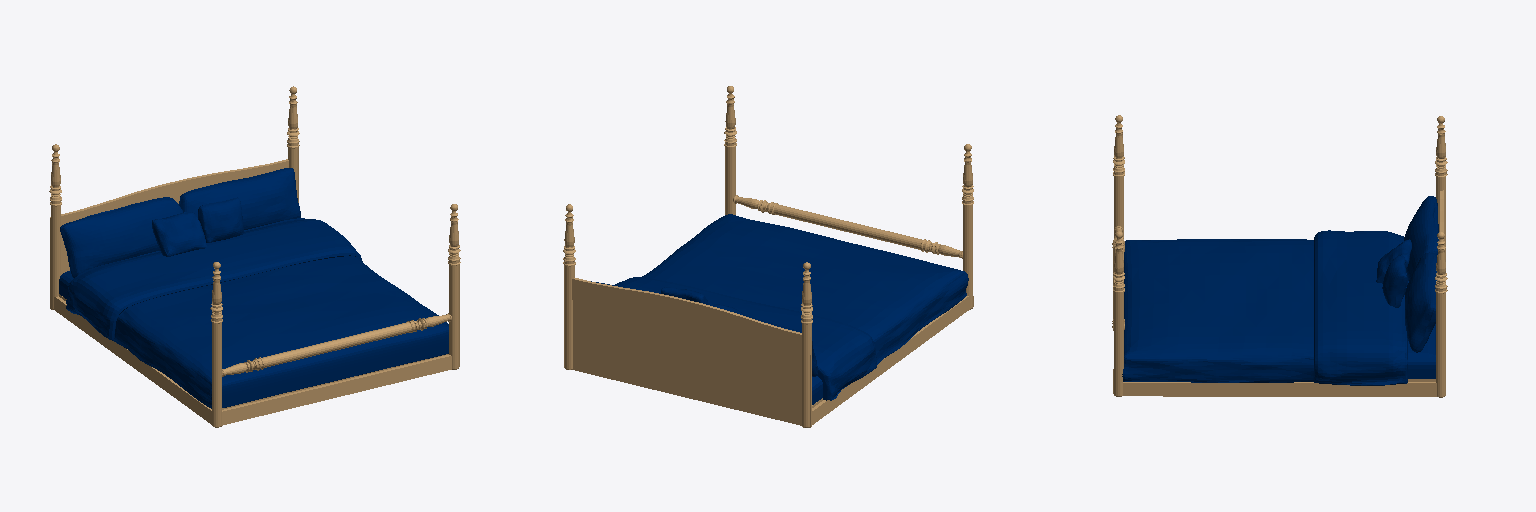
The model's file is cama4.obj.
3 views of the same model, side by side, from view 1: azimuth 30°, elevation 25°; view 2: azimuth 150°, elevation 25°; view 3: azimuth 270°, elevation 25° (orthographic).
Visible parts, largest first — view 1: 14316_King_Size_Bed_with_Denim_Sheets-Pine_v1_l1; view 2: 14316_King_Size_Bed_with_Denim_Sheets-Pine_v1_l1; view 3: 14316_King_Size_Bed_with_Denim_Sheets-Pine_v1_l1.
Boxes of the visible parts, <box> form: 14316_King_Size_Bed_with_Denim_Sheets-Pine_v1_l1: <box>49,86,460,427</box>; 14316_King_Size_Bed_with_Denim_Sheets-Pine_v1_l1: <box>563,86,973,427</box>; 14316_King_Size_Bed_with_Denim_Sheets-Pine_v1_l1: <box>1112,115,1447,397</box>.
Bounding box in the file's own units: 199 × 121 × 224.